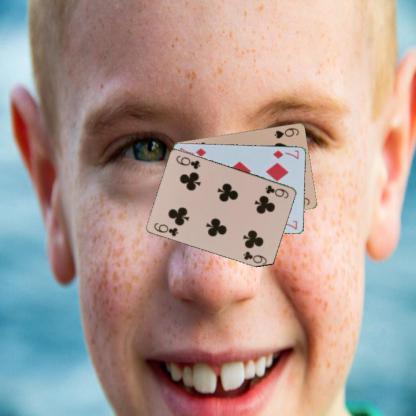6c: (151, 220, 180, 238), (263, 182, 290, 199)
6s: (272, 125, 301, 140)
7d: (270, 147, 300, 160)
